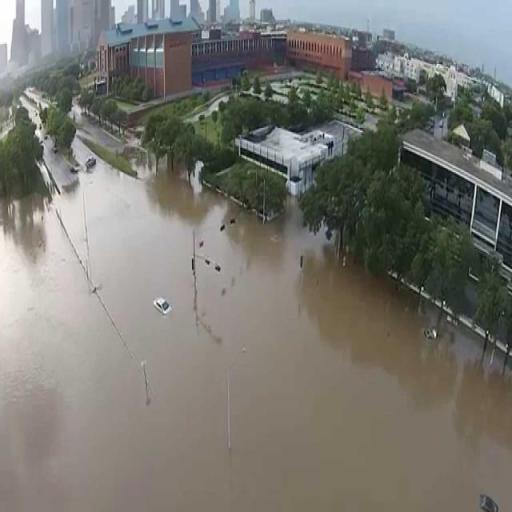flood: (0, 160, 512, 512)
house: (396, 128, 512, 241), (90, 21, 201, 106), (238, 123, 334, 195), (193, 21, 276, 85), (288, 26, 354, 78), (379, 50, 422, 80)
